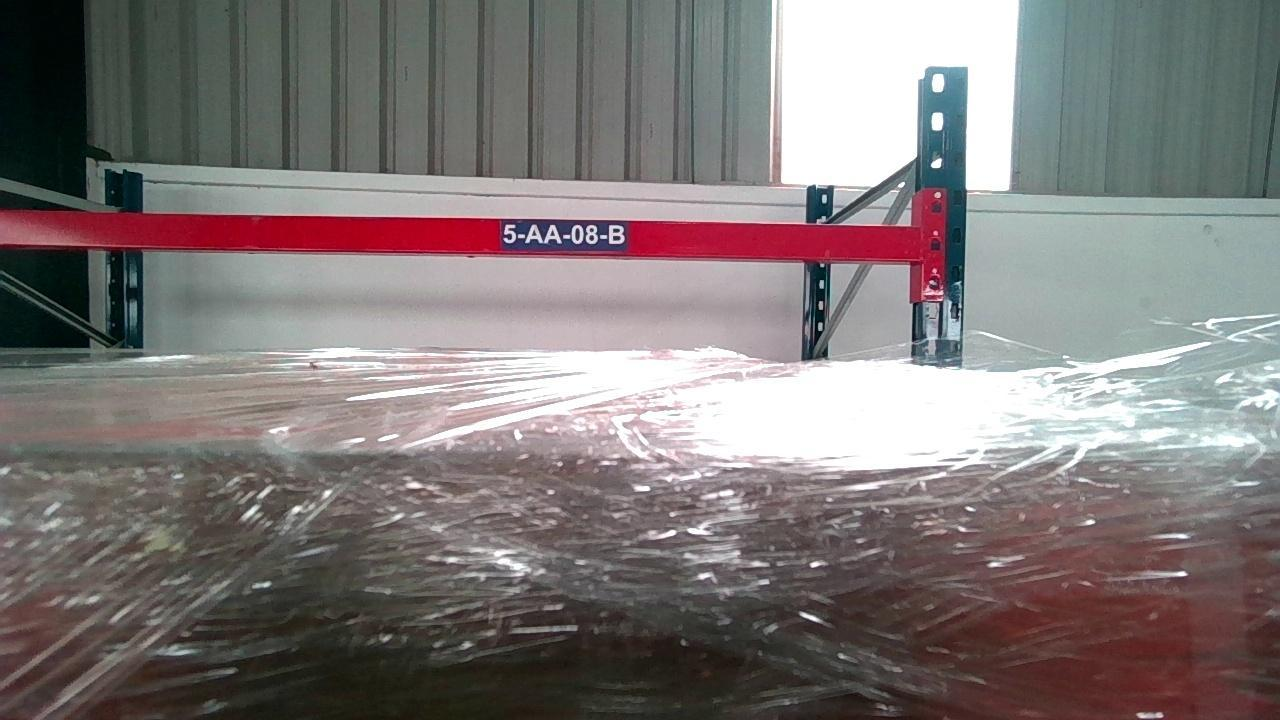h_rack: (0, 214, 919, 260)
